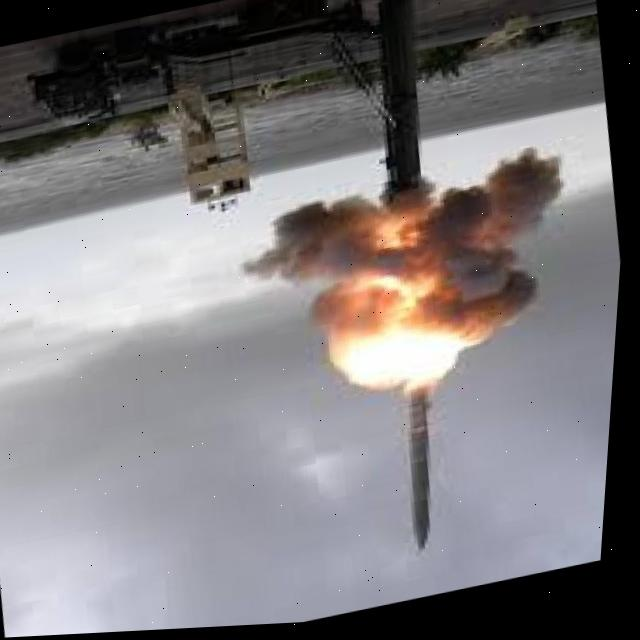missile: (392, 379, 466, 559)
